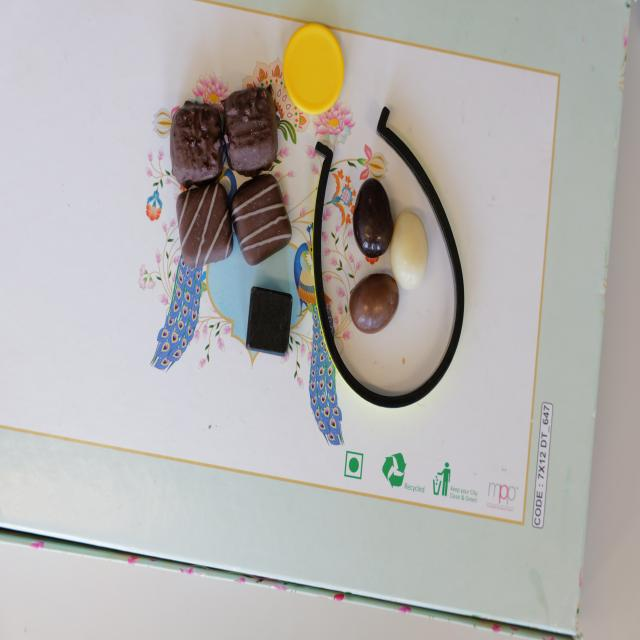Jelly_Black: (353, 173, 395, 261)
Jelly_Milk: (349, 268, 399, 336)
Jelly_White: (395, 211, 428, 290)
Stracciatella: (232, 173, 294, 263), (177, 182, 236, 266)
Tentation_noir: (224, 83, 280, 178), (172, 101, 224, 186)
